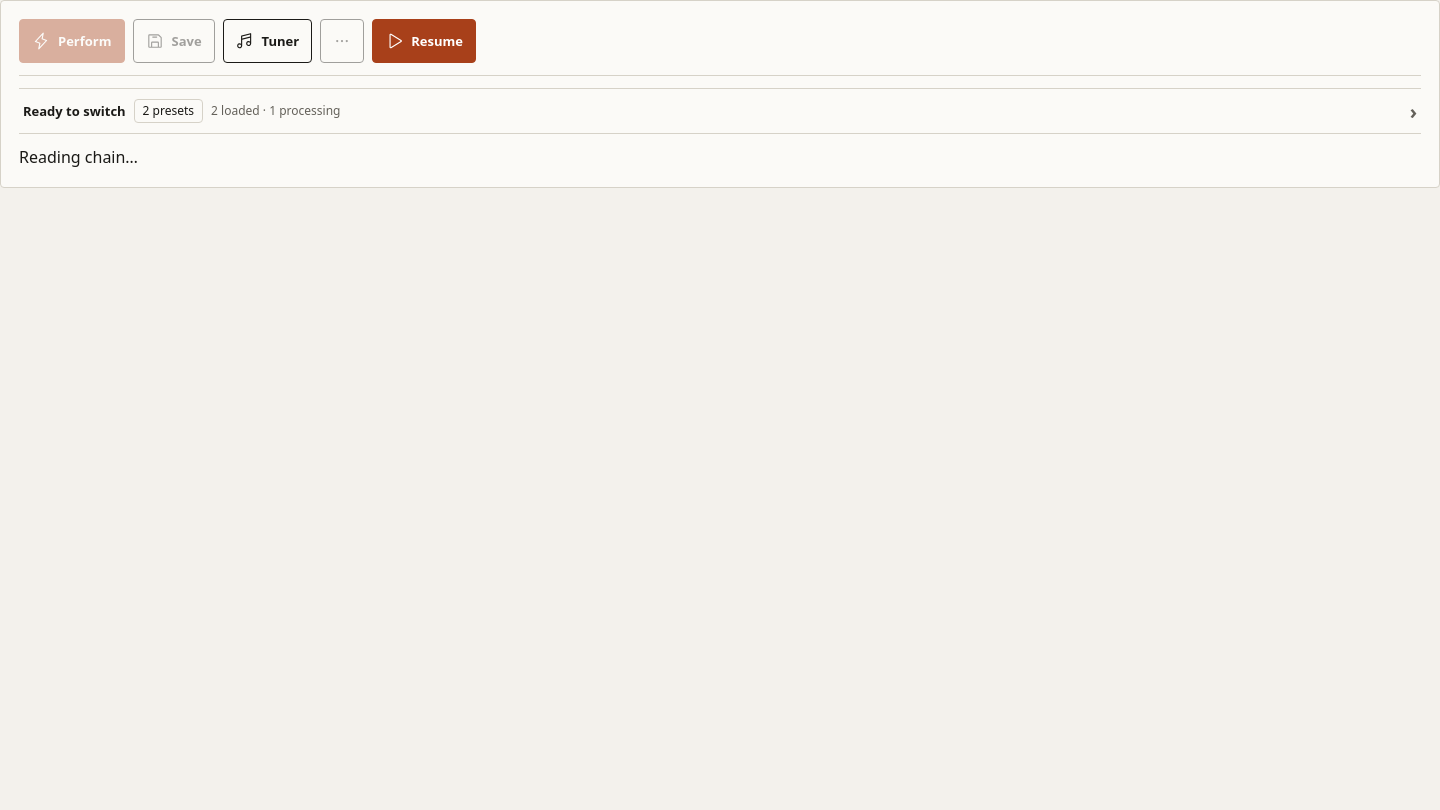
Scenario: keeps gapless-ready presets distinct from scenes in a compact disclosure
This screenshot has width=1440, height=810.
Expected: the text "2 presets" is shown, [134, 99, 203, 123]
Click the text "Ready to switch" at (74, 111), box [23, 102, 126, 120]
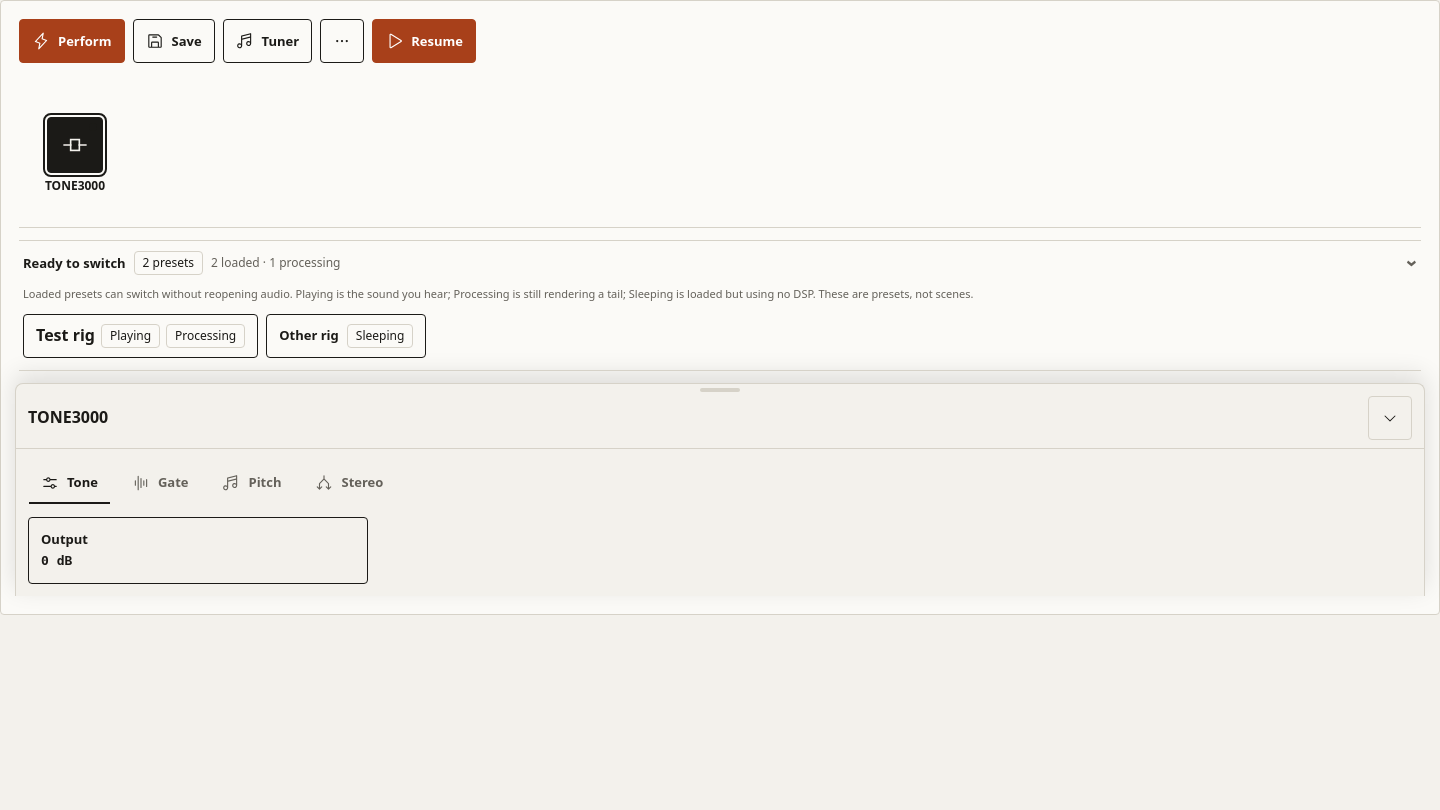
Now the text "Loaded presets can switch without reopening audio" is shown, box [23, 286, 974, 301]
Now the element named "Ready presets" is shown, box [23, 314, 426, 358]
